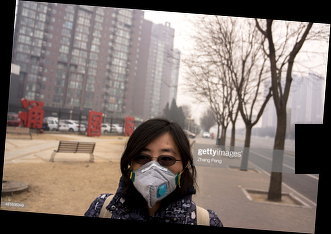with_mask: (129, 145, 182, 207)
